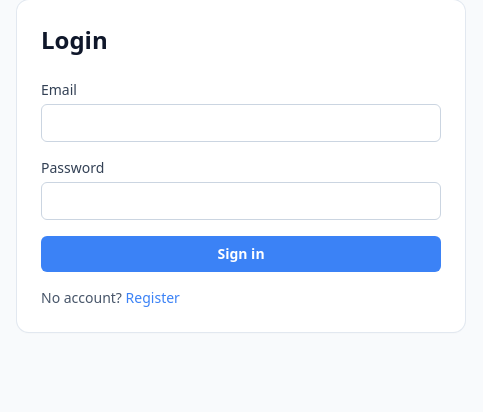
Scenario: LoginPage › validates required fields client-side
Click the button "Sign in" at [241, 254], box [41, 236, 441, 272]
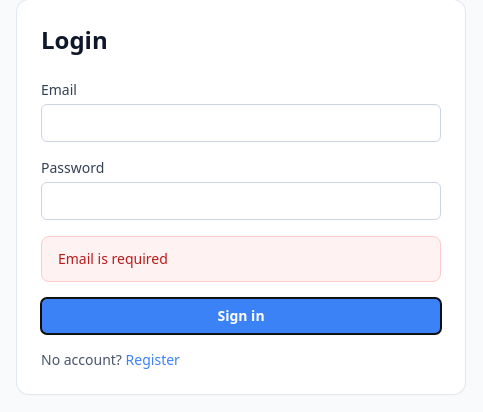
expect the message reads "Email is required": met, box [58, 249, 168, 268]
